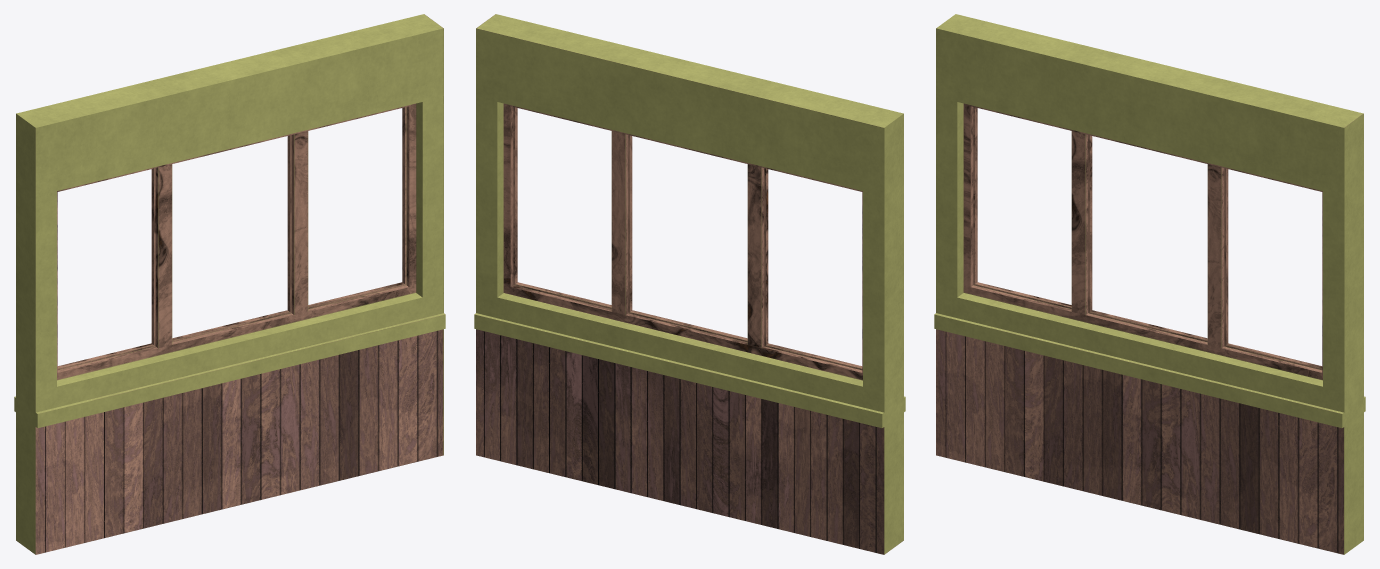
Rendered from BigWindows.fbx.
3 views of the same model, side by side, from view 1: azimuth 30°, elevation 25°; view 2: azimuth 150°, elevation 25°; view 3: azimuth 330°, elevation 25° (orthographic).
Parts seen in each view (by area): view 1: BigWindow_Baked; view 2: BigWindow_Baked; view 3: BigWindow_Baked.
Boxes of the visible parts, <box> form: BigWindow_Baked: <box>14,14,445,554</box>; BigWindow_Baked: <box>474,14,905,554</box>; BigWindow_Baked: <box>934,14,1365,554</box>.
Size of the model in its own units: 300 by 300 by 30.
1 material, 1 textured.
